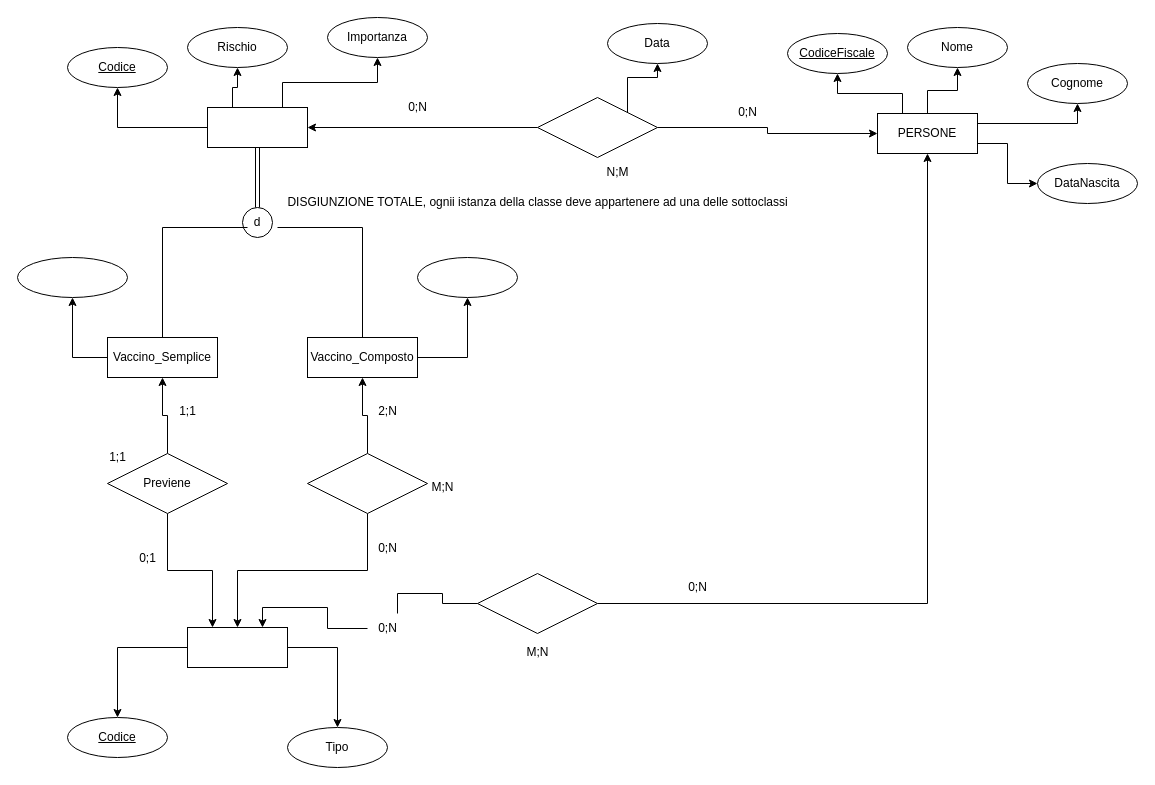
Some shapes in this 1155 by 785 pixel diagram are drawn without their labels. The shapes that lost their labels are listed below. From the top down, each one's centre as x and y in pixels, then its label:
pixel 257 127: VACCINO
pixel 597 127: Vaccinazione
pixel 72 277: AnnoIntroduzione
pixel 467 277: Ticket
pixel 367 483: Previene Composto
pixel 537 603: Contagio
pixel 237 647: MALATTIE
